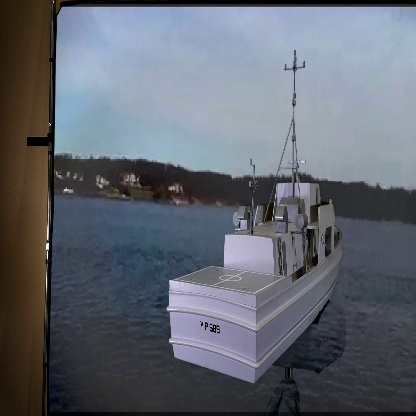YP689: (166, 49, 345, 378)
